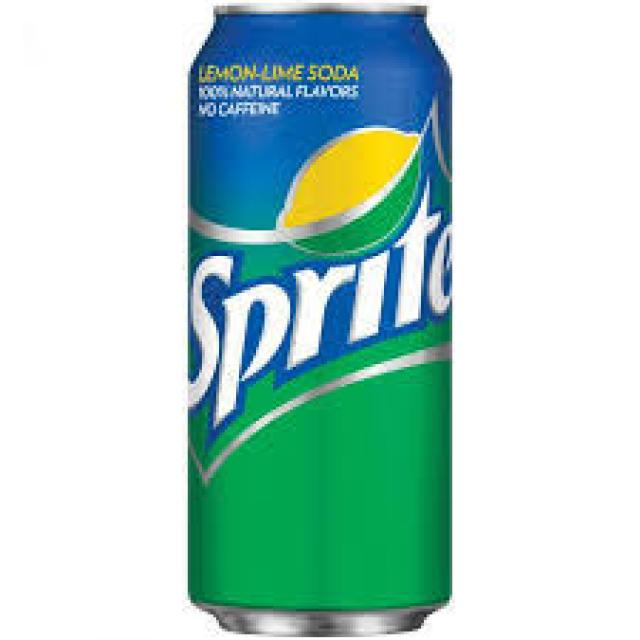aluminum_can: (191, 9, 452, 636)
